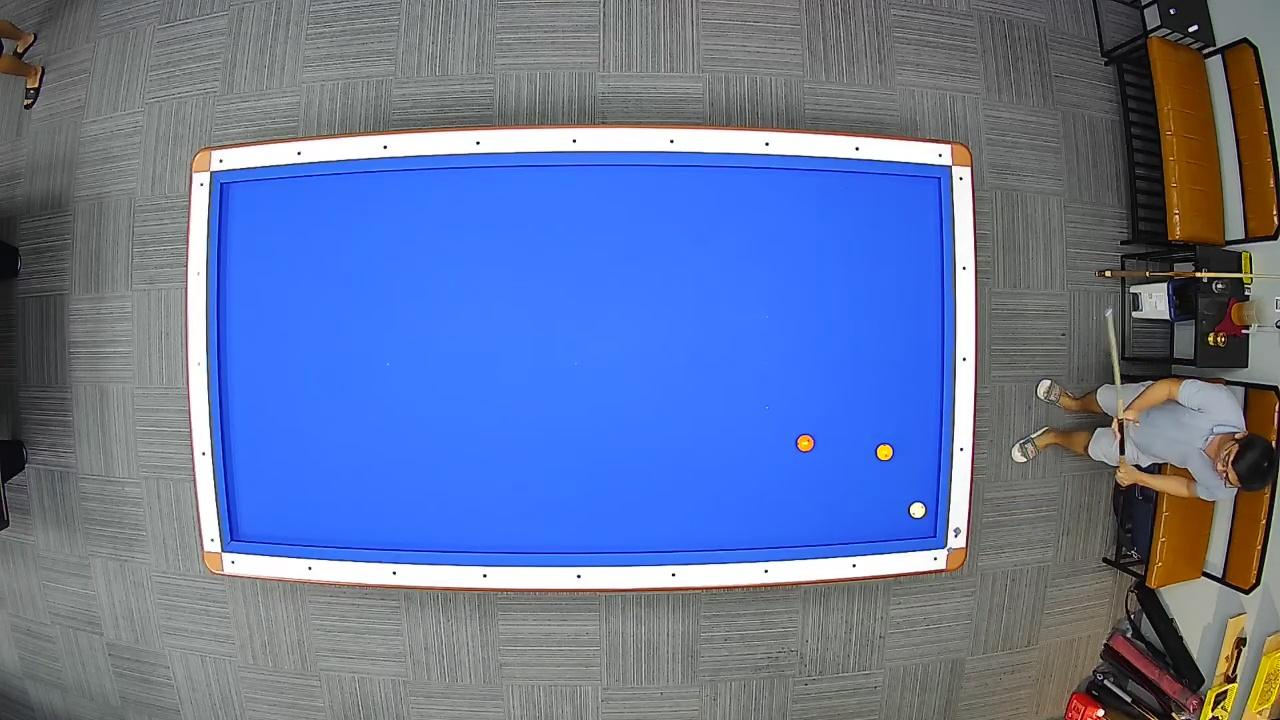Orange: (796, 434, 816, 454)
White: (908, 500, 926, 522)
Yellow: (876, 442, 894, 463)
